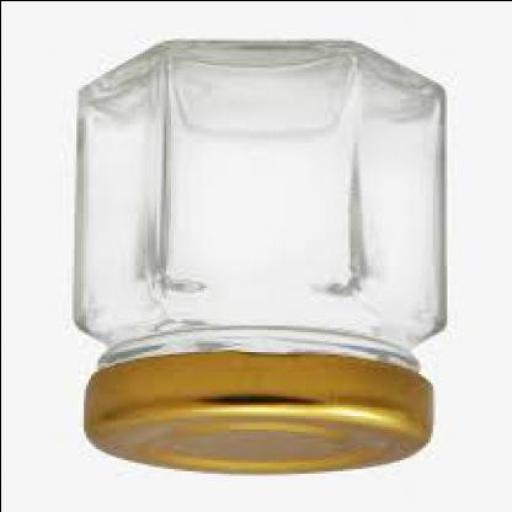glass: (76, 42, 448, 373)
metal: (85, 353, 434, 479)
